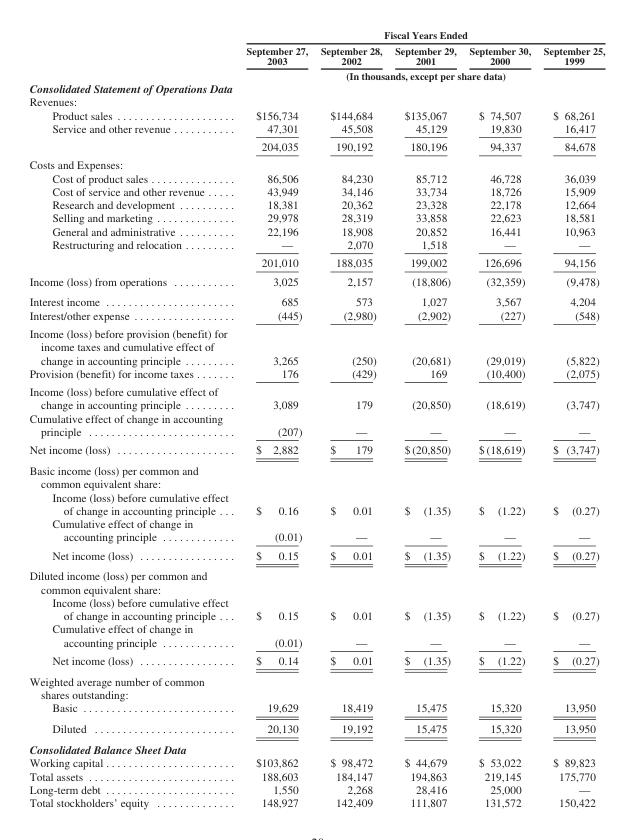table: (28, 28, 604, 808)
table column: (28, 28, 236, 808), (236, 28, 313, 808), (387, 28, 462, 808), (313, 28, 387, 808), (462, 28, 536, 808), (536, 28, 604, 808)
table column header: (28, 28, 604, 81)
table projected row header: (28, 459, 604, 490), (28, 565, 604, 595), (28, 670, 604, 700), (28, 738, 604, 755), (28, 155, 604, 171), (28, 94, 604, 108), (28, 81, 604, 94)
table row: (28, 323, 604, 366), (28, 459, 604, 490), (28, 565, 604, 595), (28, 670, 604, 700), (28, 382, 604, 411), (28, 411, 604, 440), (28, 516, 604, 545), (28, 621, 604, 650), (28, 490, 604, 516), (28, 595, 604, 621), (28, 42, 604, 67), (28, 717, 604, 738), (28, 271, 604, 291), (28, 545, 604, 565), (28, 650, 604, 670), (28, 440, 604, 459), (28, 137, 604, 155), (28, 253, 604, 271), (28, 291, 604, 308), (28, 700, 604, 717), (28, 738, 604, 755), (28, 121, 604, 137), (28, 155, 604, 171), (28, 237, 604, 253), (28, 366, 604, 382), (28, 308, 604, 323), (28, 28, 604, 42), (28, 67, 604, 81), (28, 94, 604, 108), (28, 210, 604, 224), (28, 755, 604, 769), (28, 81, 604, 94), (28, 108, 604, 121), (28, 171, 604, 184), (28, 184, 604, 197), (28, 197, 604, 210), (28, 224, 604, 237), (28, 769, 604, 782), (28, 782, 604, 795), (28, 795, 604, 808)
table spanning cell: (236, 28, 604, 42), (236, 67, 604, 81)
